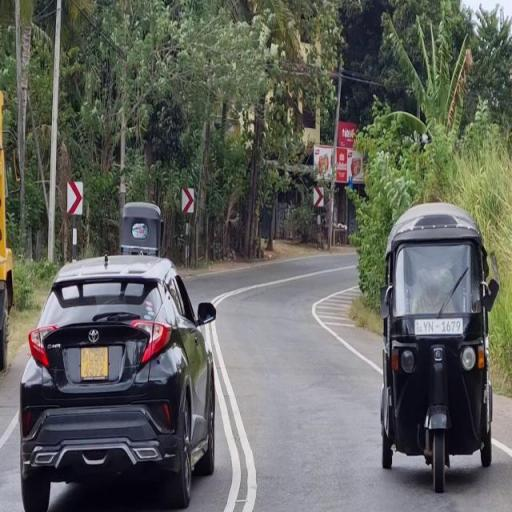double_white_line: (207, 282, 258, 510), (2, 410, 18, 448)
